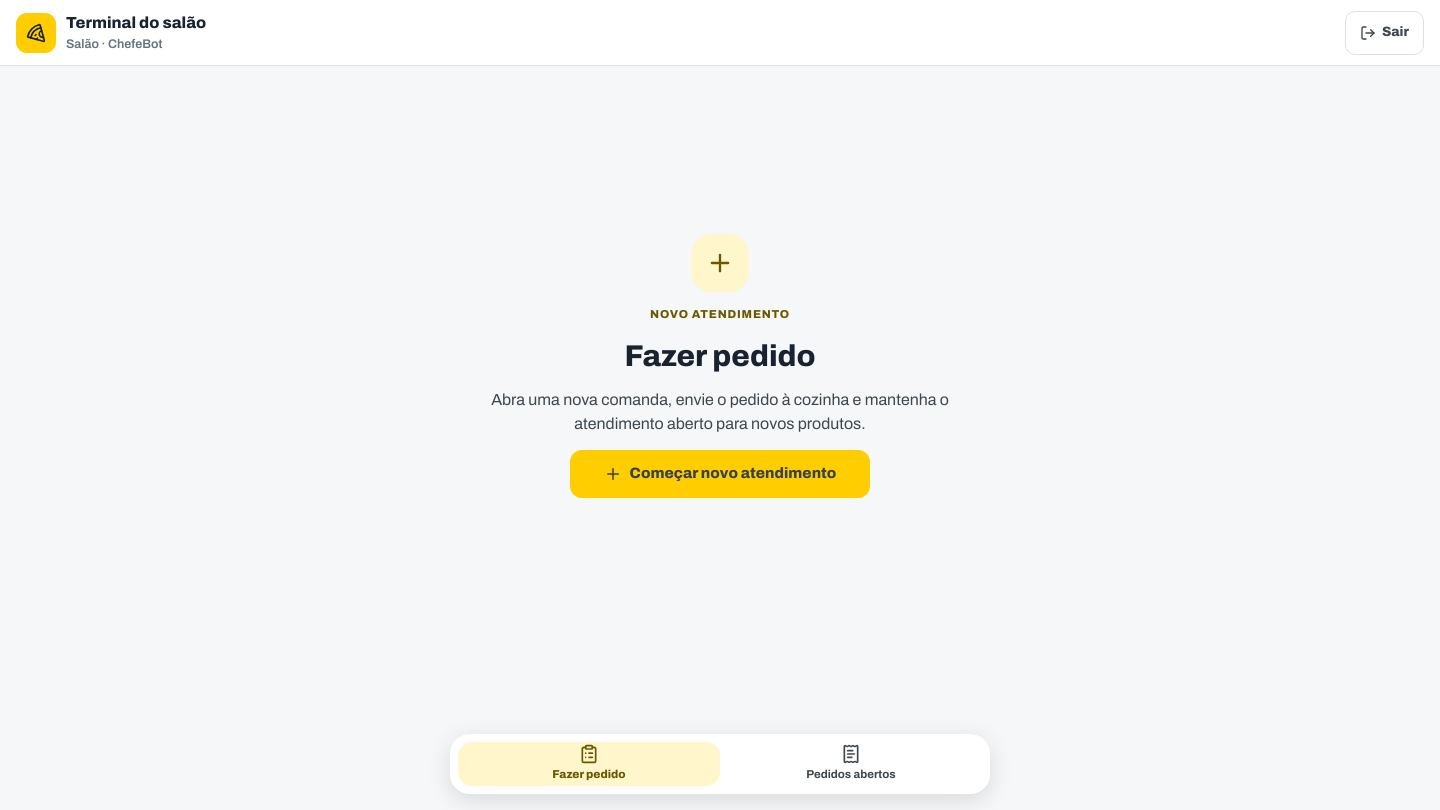
Test: /salao — montagem e revisão › adiciona produto simples, mostra confirmação e total
This screenshot has width=1440, height=810.
Click the button "Começar novo atendimento" at x=720, y=474, box [570,450,870,498]
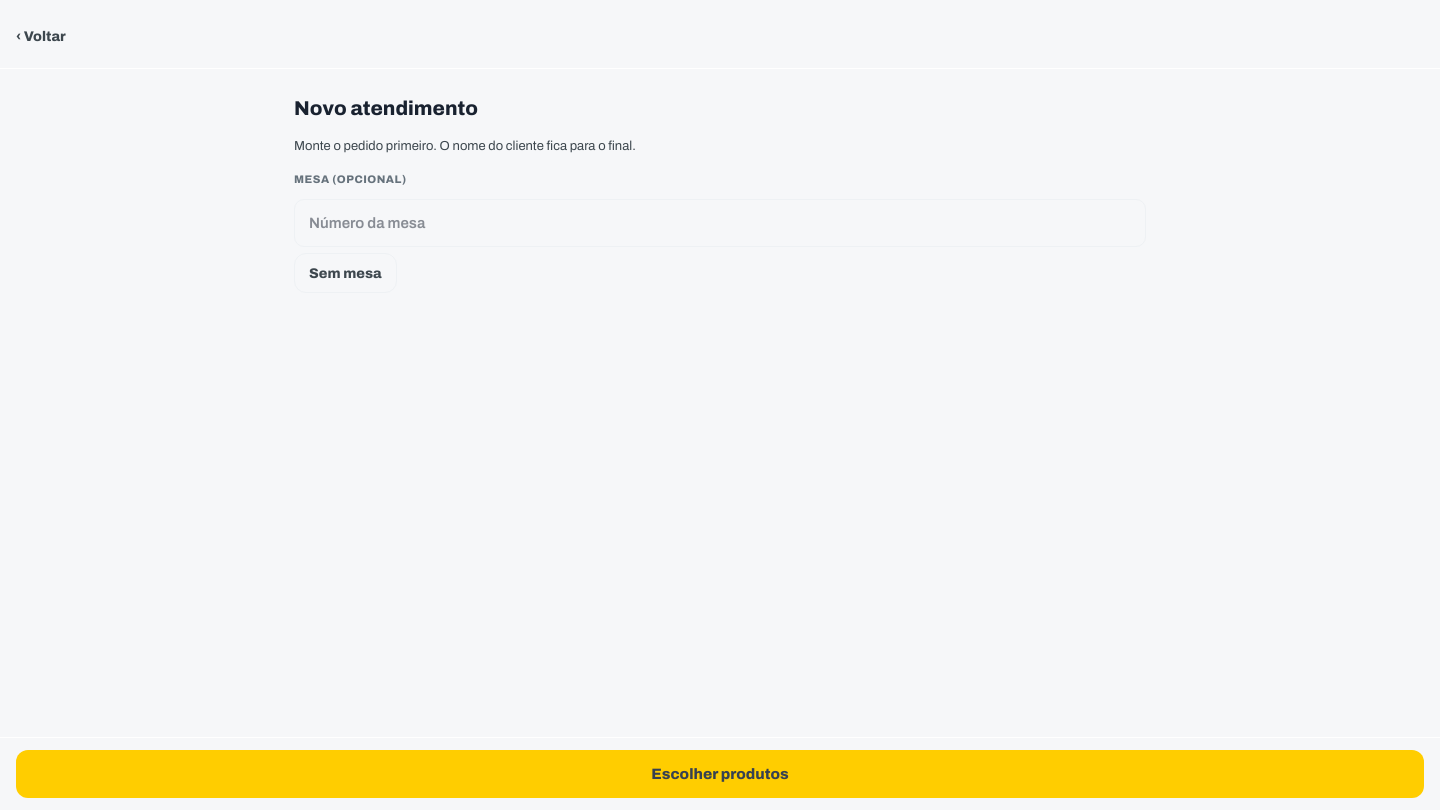
Click the button "Sem mesa" at x=345, y=273, box [294,253,397,293]
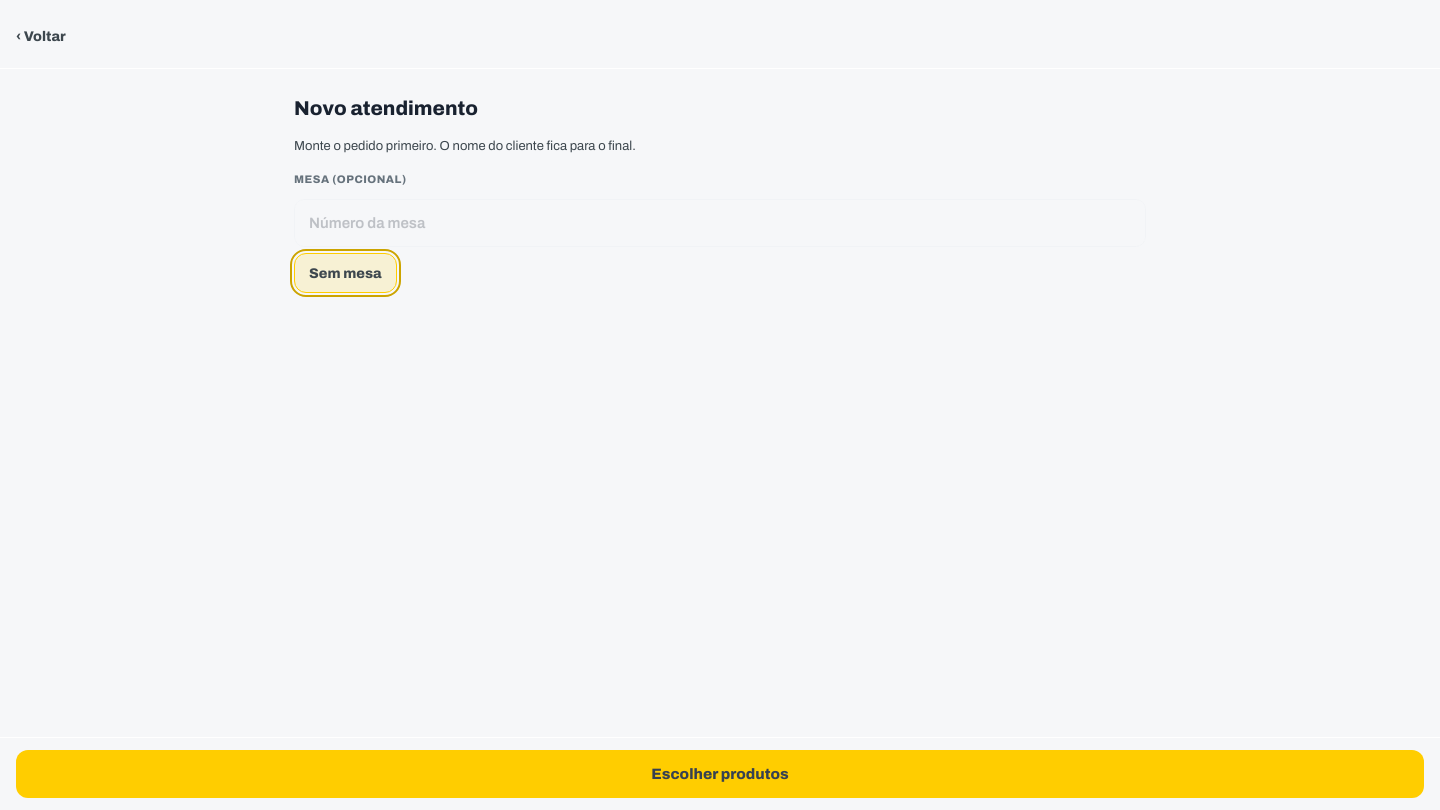
Click the button "Escolher produtos" at x=720, y=774, box [16,750,1424,798]
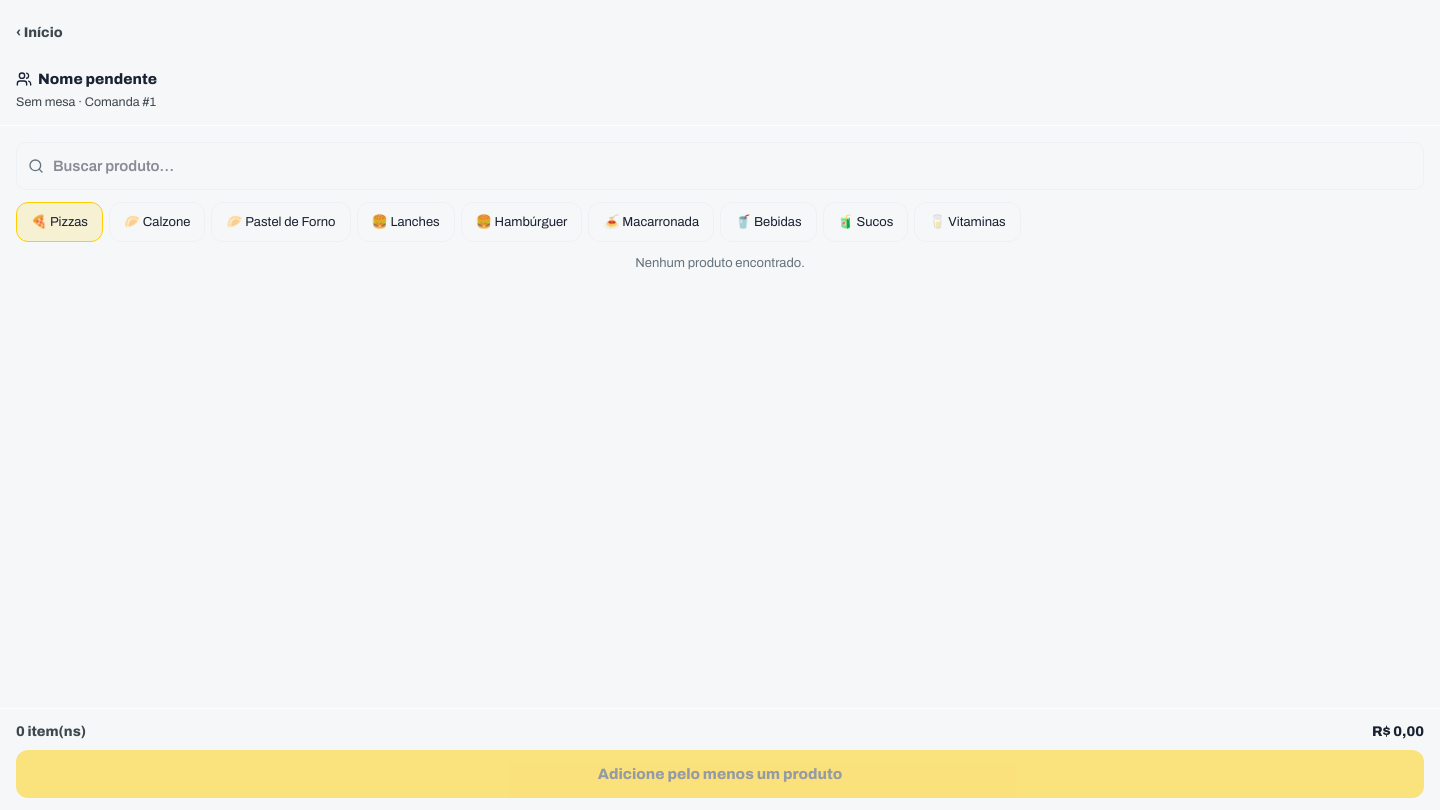
Expected: the field with placeholder "Buscar produto…" is shown
Type "Refrigerante" into the field with placeholder "Buscar produto…" at x=720, y=166, box [16,142,1424,190]
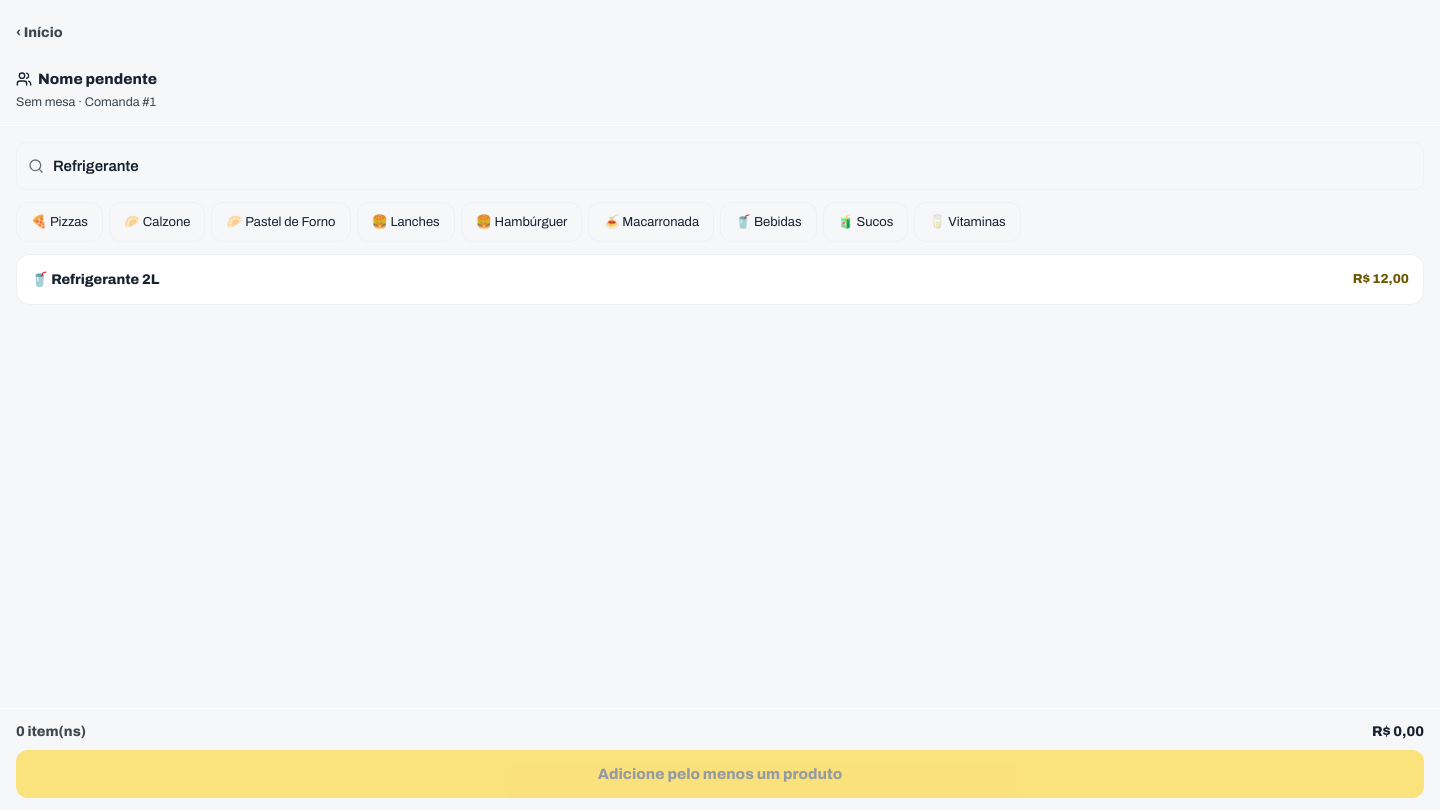
Click the button "🥤 Refrigerante 2L R$ 12,00" at x=105, y=280, box [16,254,1424,305]
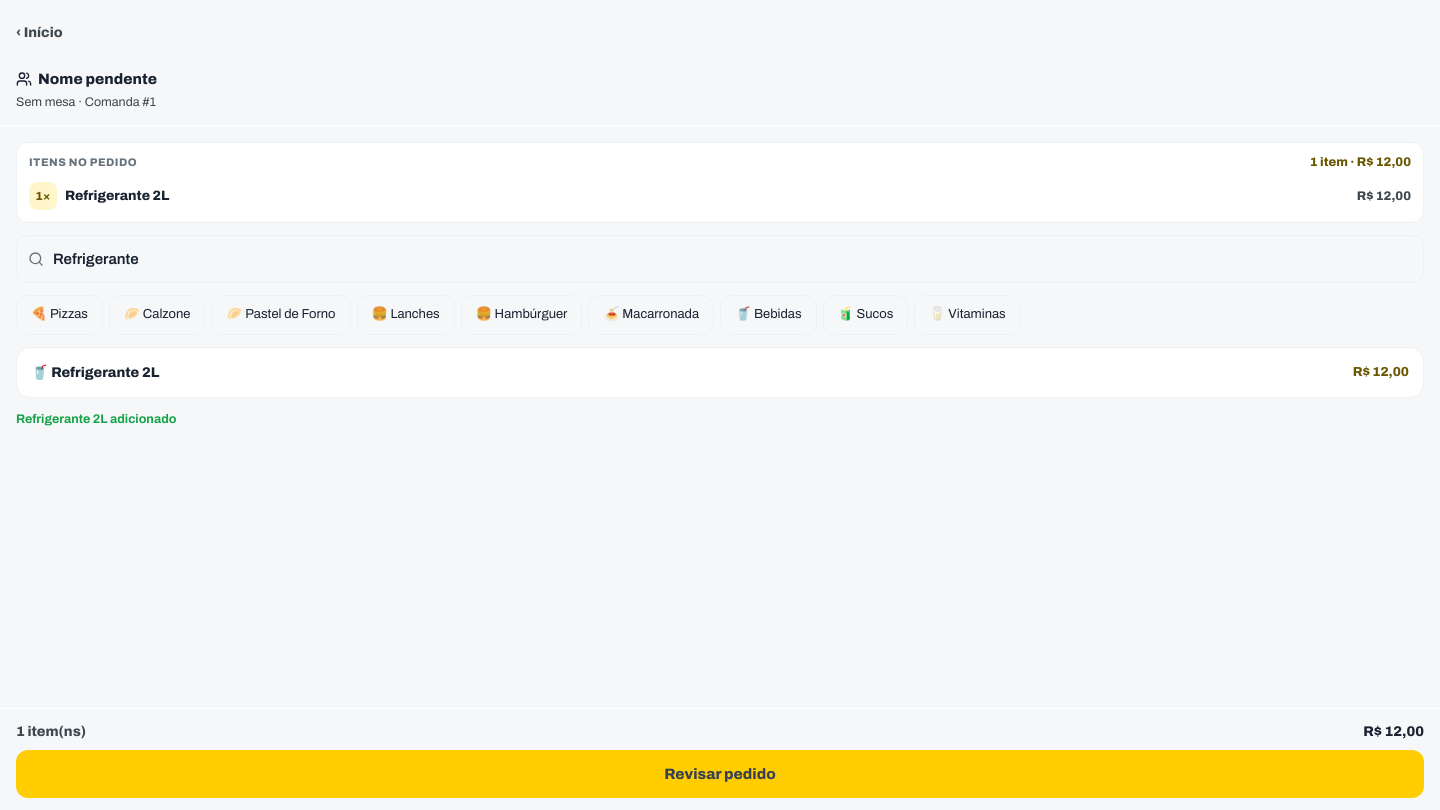
Expected: the text "Refrigerante 2L adicionado" is shown, [16,412,176,426]
Expected: the text "1 item(ns)" is shown, [16,721,86,742]
Expected: the button "Revisar pedido" is enabled, [16,750,1424,798]
